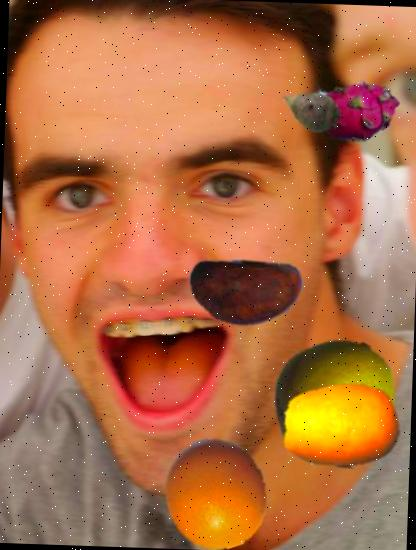Beetroot: (277, 78, 344, 144)
Chestnut: (186, 234, 304, 353)
Grapefruit: (158, 436, 274, 550)
Kumquats: (280, 364, 404, 488)
Pitahaya: (308, 66, 400, 158)
Pomelo: (265, 333, 402, 470)
